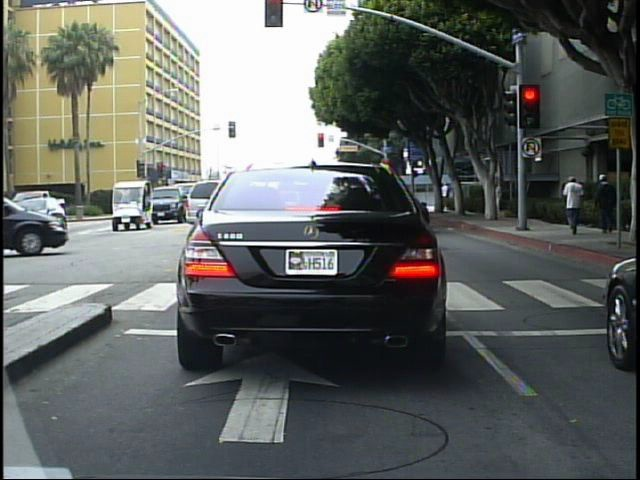person: (560, 169, 591, 238), (597, 170, 617, 237), (438, 179, 452, 213), (493, 179, 505, 218)
